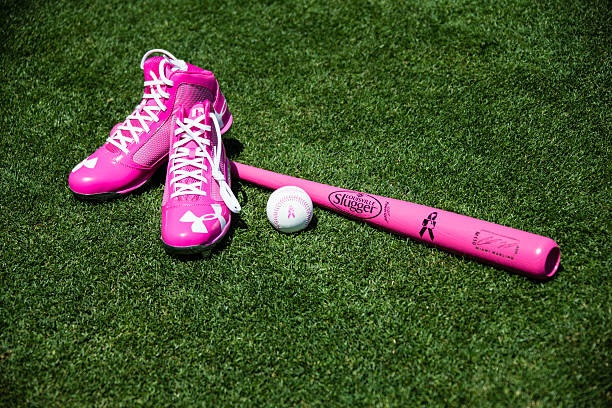bita: (224, 162, 557, 279)
